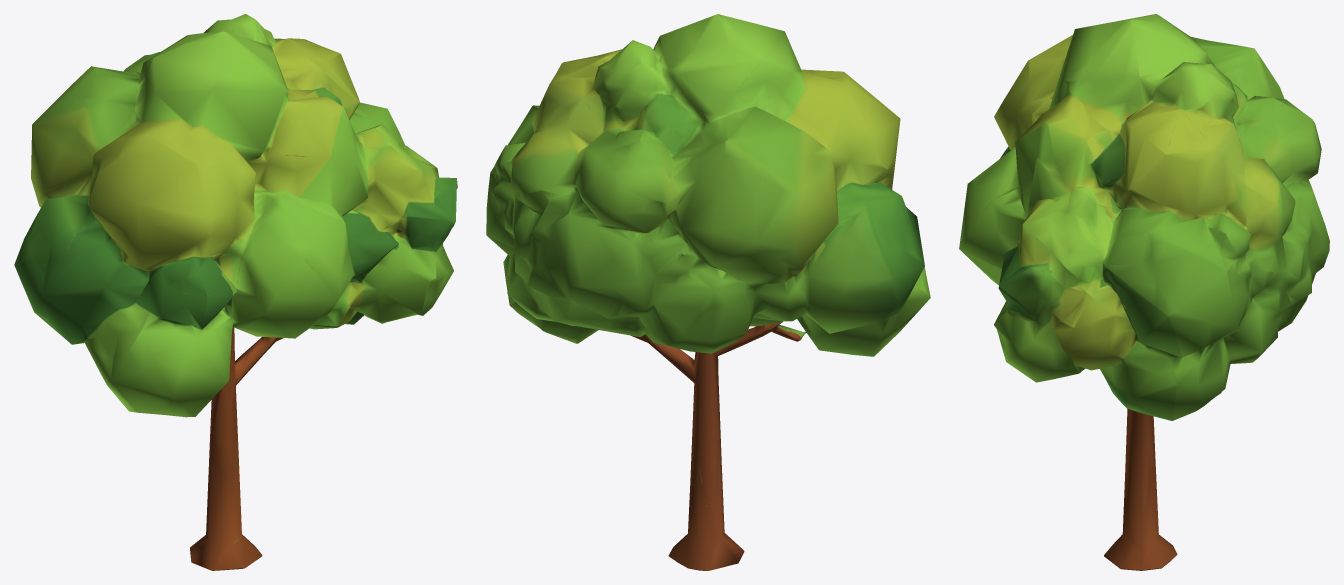
The model's file is Meshy_AI_Low_Poly_Tree_0810131748_texture.glb.
3 renders of one model, left to right at view 1: azimuth 30°, elevation 25°; view 2: azimuth 150°, elevation 25°; view 3: azimuth 270°, elevation 25°, orthographic.
Visible parts, largest first — view 1: Mesh1.0; view 2: Mesh1.0; view 3: Mesh1.0.
Part boxes in pixels (bbox=[...]): Mesh1.0: bbox=[14, 14, 457, 570]; Mesh1.0: bbox=[486, 14, 930, 570]; Mesh1.0: bbox=[959, 14, 1329, 570].
Bounding box in the file's own units: 1.48 × 1.9 × 1.2.
Materials: 1 (1 with a texture image).
